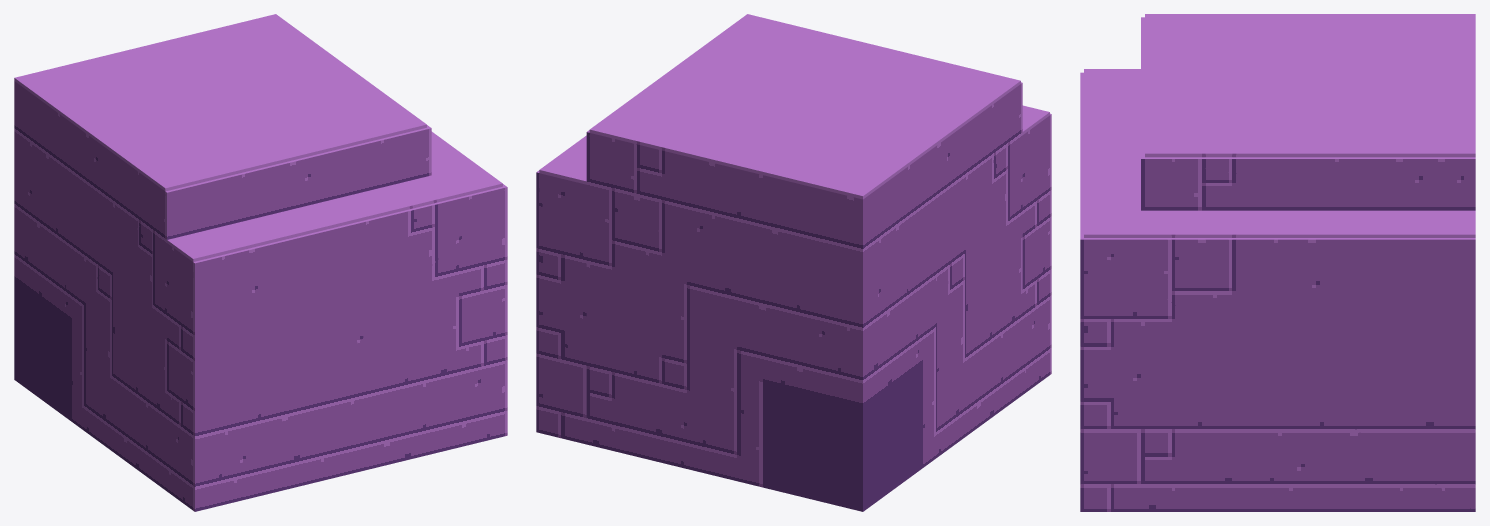
The model's file is obs_dome_bao.fezao.glb.
3 views of the same model, side by side, from view 1: azimuth 30°, elevation 25°; view 2: azimuth 150°, elevation 25°; view 3: azimuth 270°, elevation 25° (orthographic). The views are drawn at different scales.
Parts seen in each view (by area): view 1: OBS_DOME_BAO; view 2: OBS_DOME_BAO; view 3: OBS_DOME_BAO.
Part boxes in pixels (box(x1,y1,x2,y2)): OBS_DOME_BAO: box(14, 14, 507, 511); OBS_DOME_BAO: box(536, 14, 1051, 511); OBS_DOME_BAO: box(1080, 14, 1475, 511).
Bounding box in the file's own units: 6.5 × 6 × 6.5.
Materials: 1 (1 with a texture image).
